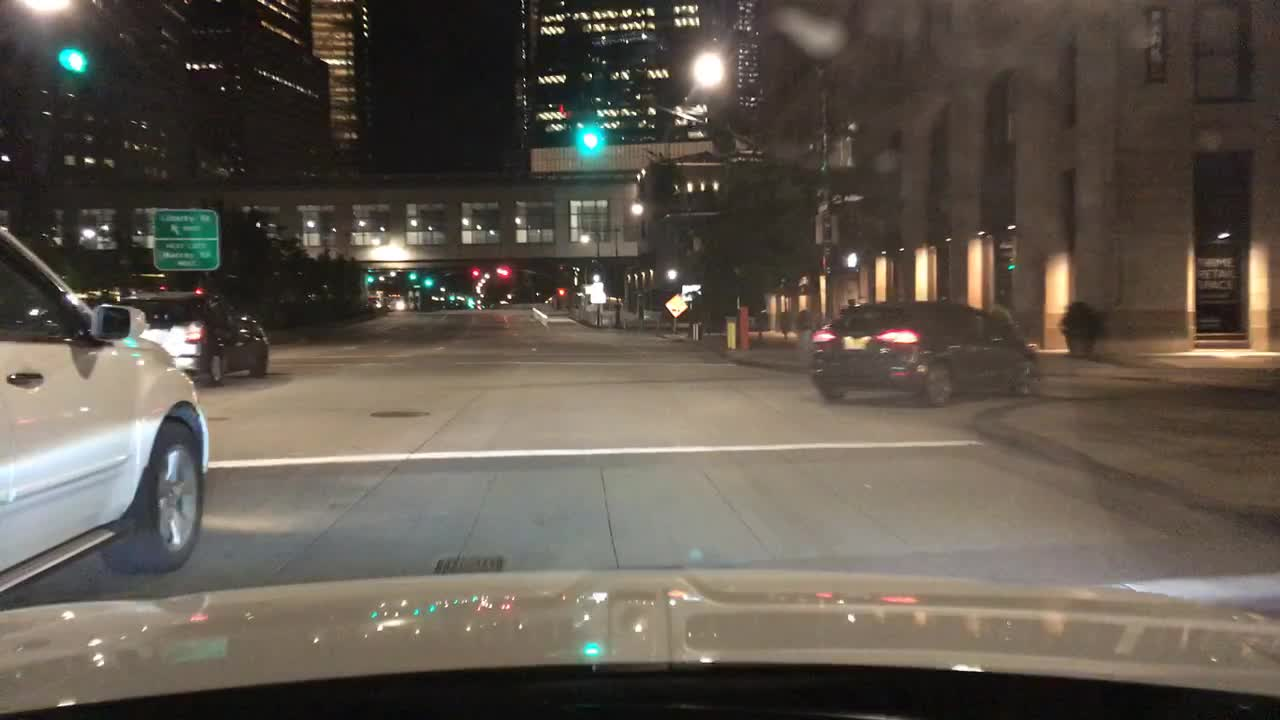car: (0, 212, 212, 597), (809, 301, 1039, 407), (118, 289, 267, 383), (386, 296, 406, 311)
traffic light: (54, 42, 99, 80), (582, 129, 599, 153), (845, 253, 865, 273), (557, 98, 572, 122), (496, 263, 512, 278), (1007, 249, 1017, 273), (422, 273, 434, 286), (469, 266, 480, 278), (555, 288, 568, 297), (366, 273, 376, 284), (409, 269, 417, 281)
traffic sign: (152, 210, 220, 270), (663, 292, 687, 316)
